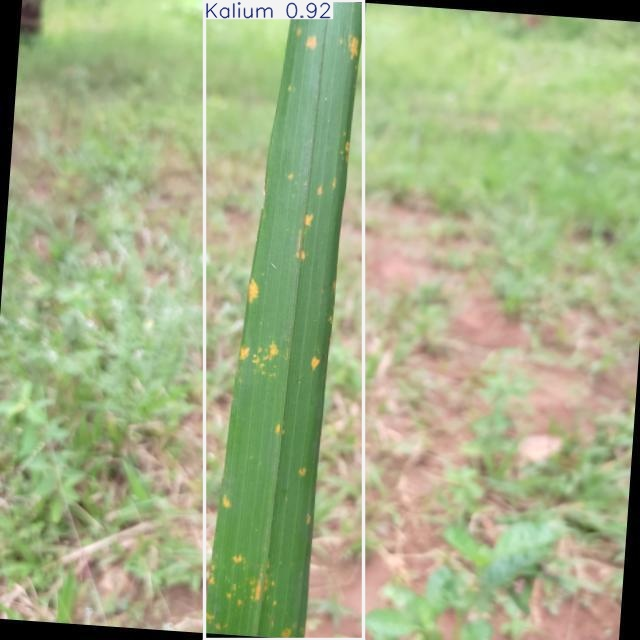Kalium: (205, 0, 363, 639)
